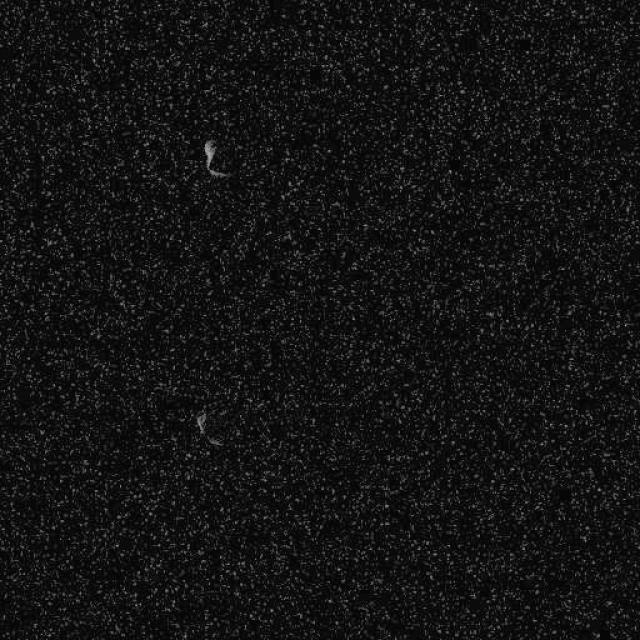D2: (201, 138, 230, 178), (194, 410, 224, 448)
